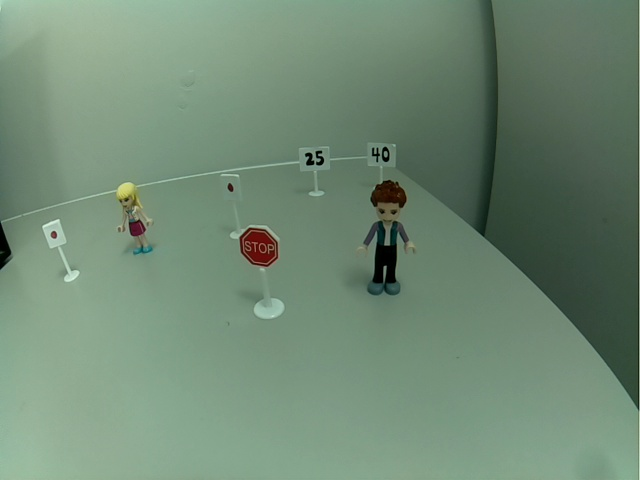people: (356, 179, 417, 296), (113, 181, 157, 257)
red light: (219, 172, 242, 203)
speed 25: (298, 145, 331, 172)
speed 40: (366, 141, 397, 169)
stop: (237, 224, 282, 271), (42, 218, 68, 249)
